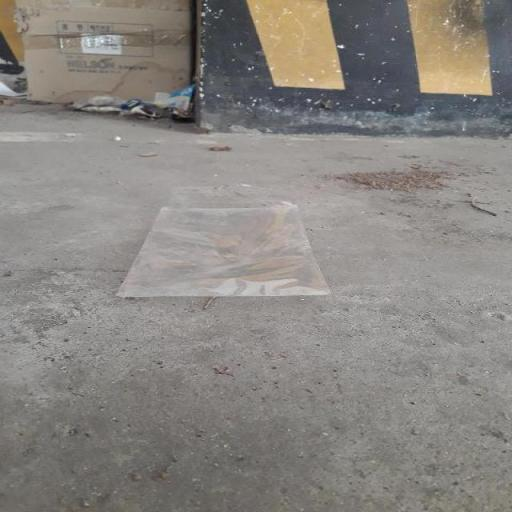plastic-bag: (114, 183, 340, 303)
